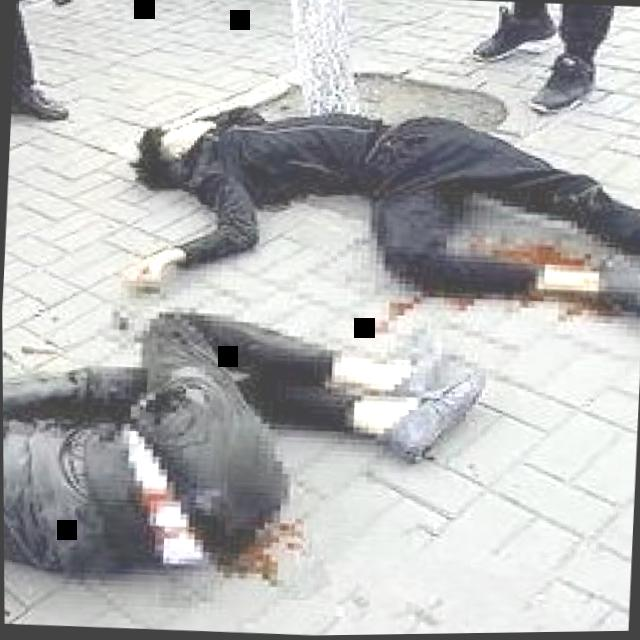Fall-Detected: (2, 260, 536, 640)
